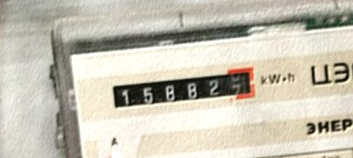1: (120, 88, 132, 107)
2: (208, 79, 220, 96)
5: (141, 87, 154, 104)
7: (230, 83, 242, 97)
8: (164, 84, 176, 102), (187, 82, 198, 99)
screen: (105, 64, 263, 114)
